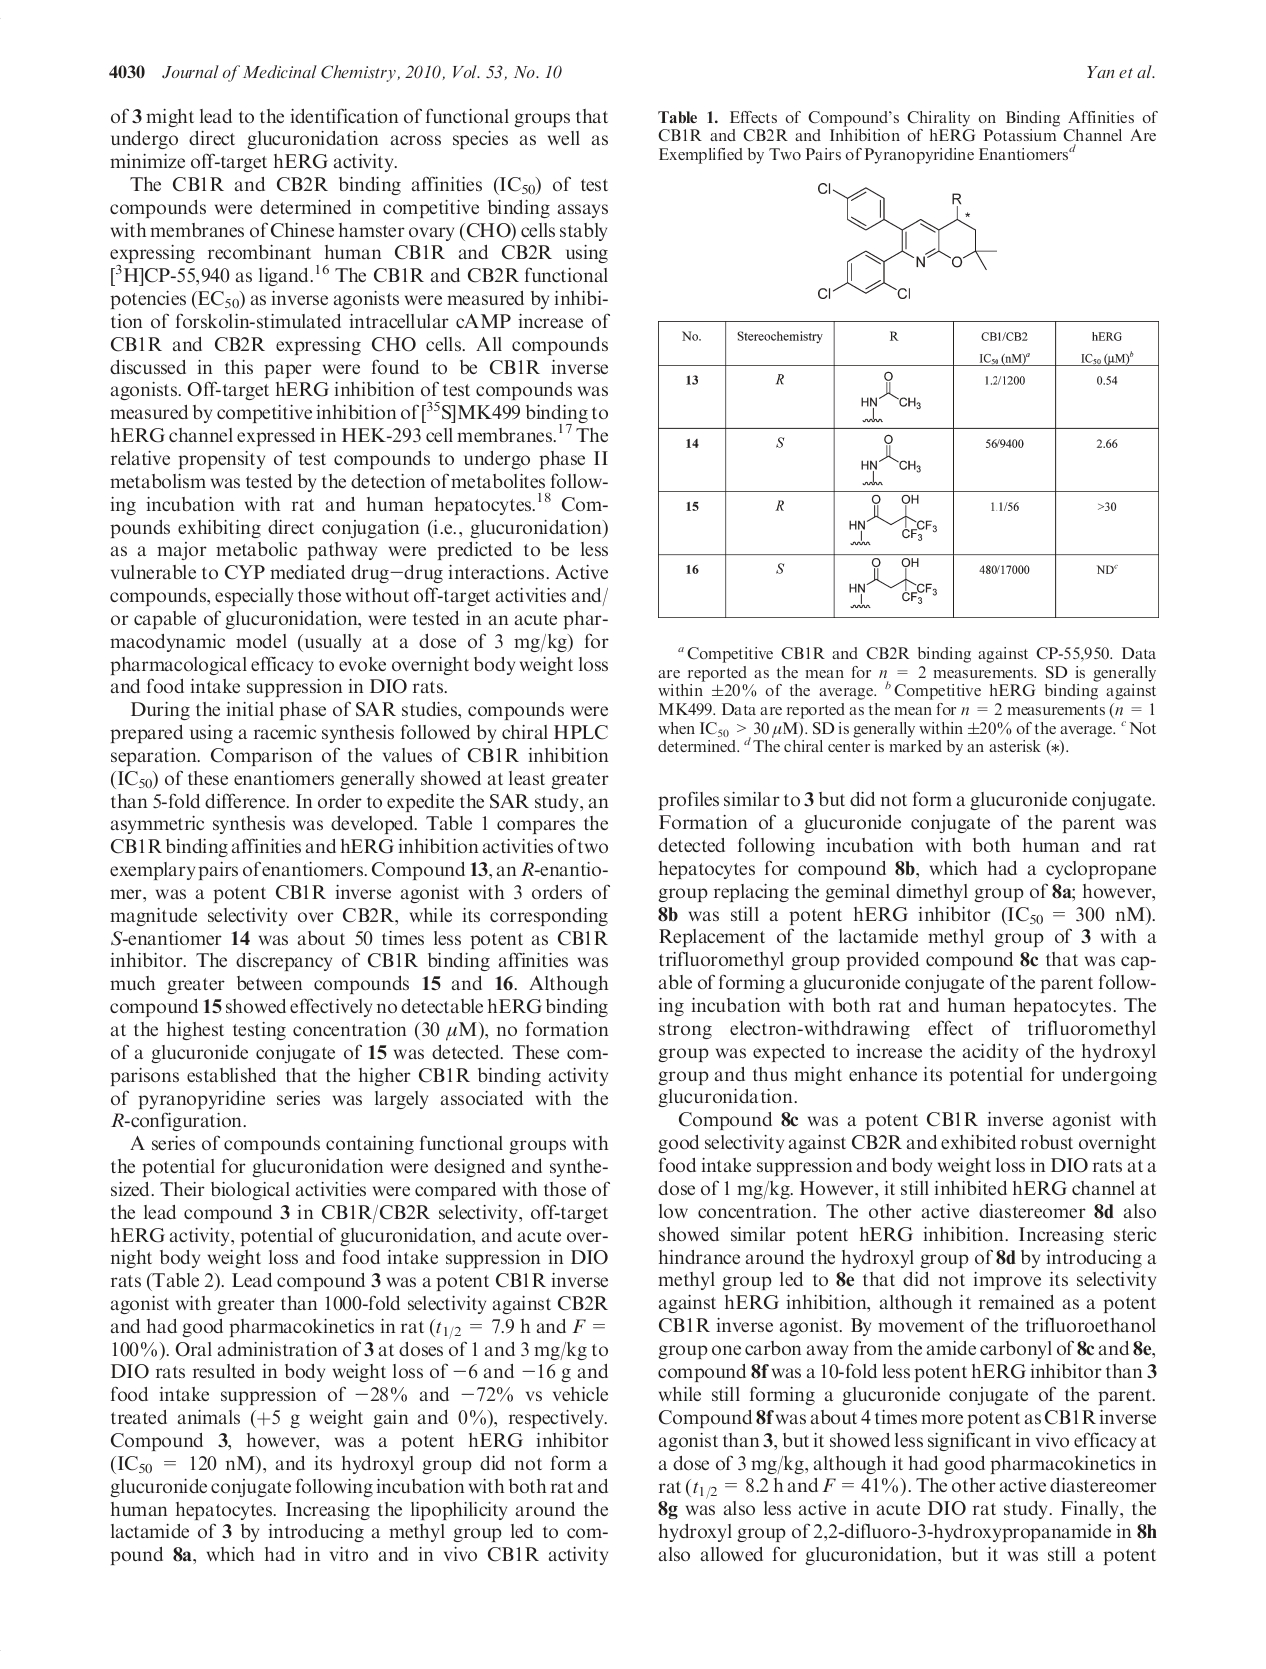exist_molecular: (813, 176, 1001, 307), (839, 556, 940, 610), (847, 495, 939, 547), (854, 368, 923, 427), (855, 432, 924, 488)
